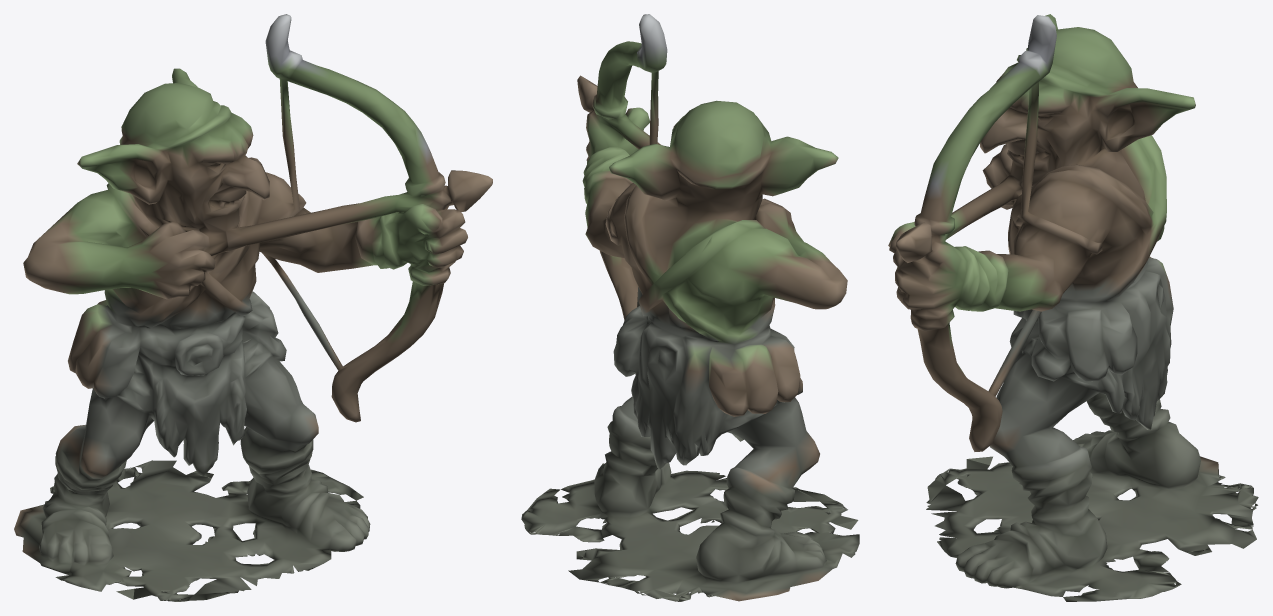
The model's file is bow.glb.
The picture shows the model from 3 angles, left to right: view 1: azimuth 30°, elevation 25°; view 2: azimuth 150°, elevation 25°; view 3: azimuth 270°, elevation 25°; orthographic projection. The views are drawn at different scales.
Visible parts, largest first — view 1: world; view 2: world; view 3: world.
Part boxes in pixels (left/top/right/bottom): world: left=14, top=14, right=492, bottom=601; world: left=521, top=14, right=859, bottom=601; world: left=888, top=14, right=1258, bottom=601.
Bounding box in the file's own units: 1.18 × 1.55 × 0.9639.
